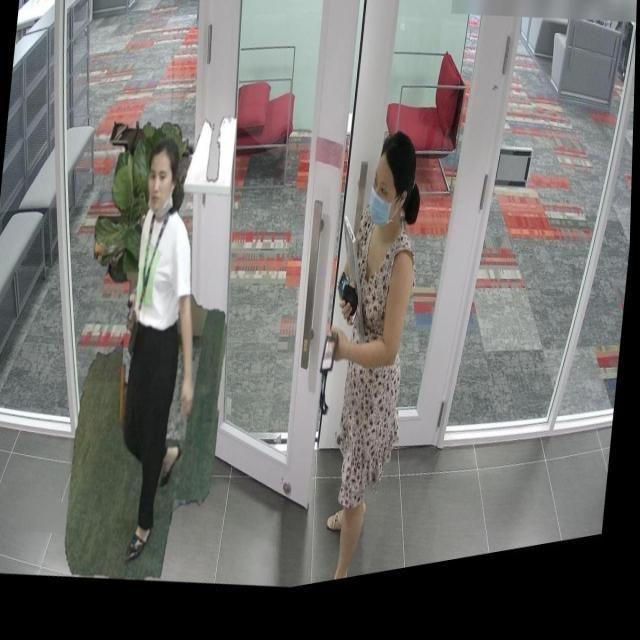hairnet: (146, 165, 180, 230)
